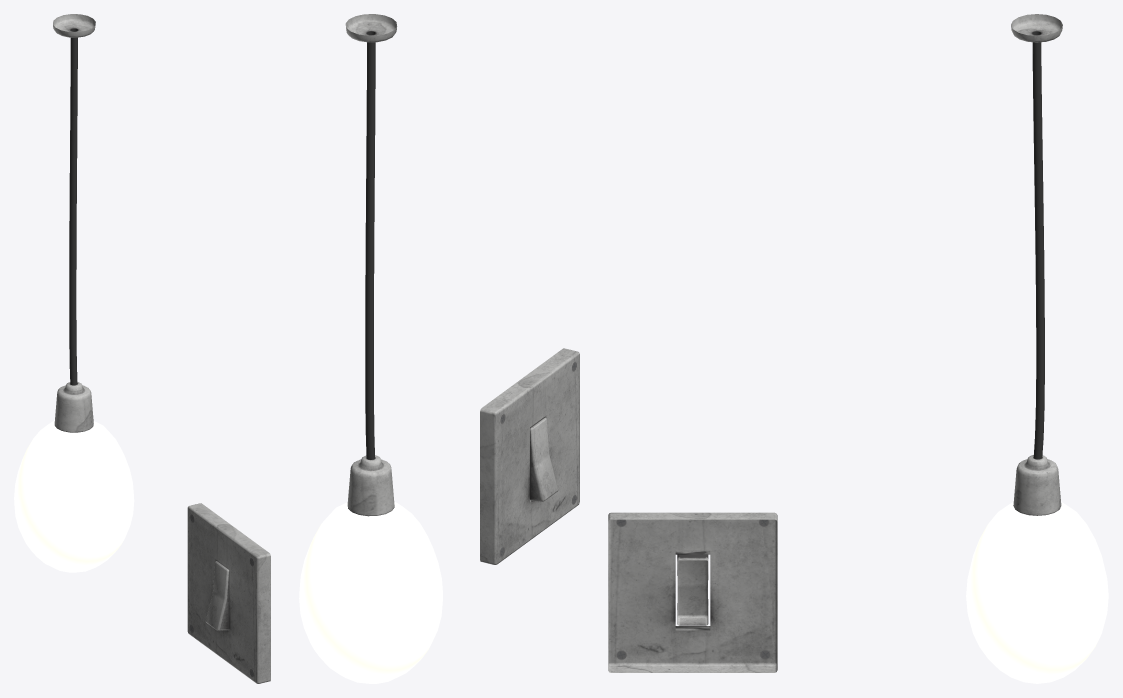
Rendered from light_switch_and_bulb.glb.
The picture shows the model from 3 angles, left to right: view 1: azimuth 30°, elevation 25°; view 2: azimuth 150°, elevation 25°; view 3: azimuth 270°, elevation 25°; orthographic projection. The views are drawn at different scales.
Visible parts, largest first — view 1: SM_bulb.003, SM_light_switch.003, SM_bulb.004, SM_light_switch.002; view 2: SM_bulb.003, SM_light_switch.003, SM_bulb.004, SM_light_switch.002; view 3: SM_light_switch.003, SM_bulb.003, SM_bulb.004, SM_light_switch.002.
Part boxes in pixels (bbox=[...]): SM_bulb.003: bbox=[14, 381, 134, 572]; SM_light_switch.003: bbox=[187, 503, 270, 683]; SM_bulb.004: bbox=[53, 14, 95, 385]; SM_light_switch.002: bbox=[205, 561, 229, 630]; SM_bulb.003: bbox=[299, 455, 442, 683]; SM_light_switch.003: bbox=[480, 348, 579, 564]; SM_bulb.004: bbox=[345, 14, 397, 459]; SM_light_switch.002: bbox=[530, 417, 558, 501]; SM_light_switch.003: bbox=[608, 512, 777, 672]; SM_bulb.003: bbox=[966, 454, 1108, 683]; SM_bulb.004: bbox=[1011, 14, 1062, 459]; SM_light_switch.002: bbox=[677, 554, 708, 625].
Bounding box in the file's own units: 0.1276 × 0.6348 × 0.4405.
Materials: 1 (1 with a texture image).
